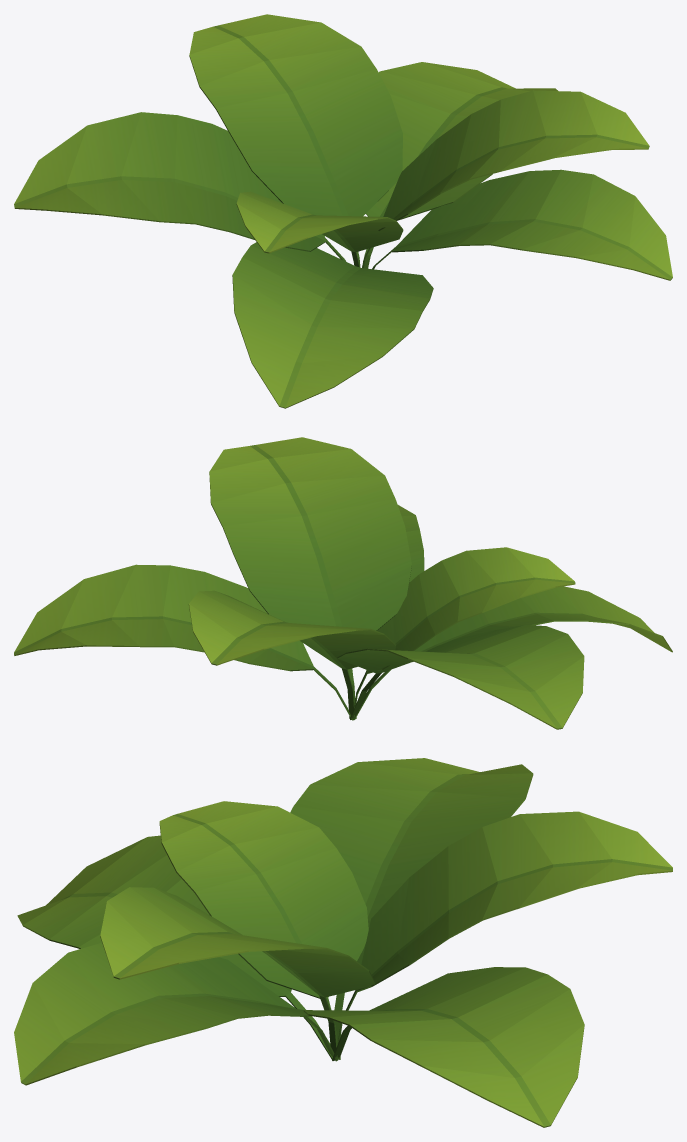
File: Plant_01.obj
The picture shows the model from 3 angles, top to bottom: view 1: azimuth 30°, elevation 25°; view 2: azimuth 150°, elevation 25°; view 3: azimuth 270°, elevation 25°; orthographic projection. The views are drawn at different scales.
Visible parts, largest first — view 1: Plant_01_Plant_01_Plane.092; view 2: Plant_01_Plant_01_Plane.092; view 3: Plant_01_Plant_01_Plane.092.
Boxes of the visible parts, bbox=[...] form: Plant_01_Plant_01_Plane.092: bbox=[14, 14, 672, 408]; Plant_01_Plant_01_Plane.092: bbox=[14, 437, 672, 729]; Plant_01_Plant_01_Plane.092: bbox=[14, 758, 672, 1127].
Size of the model in its own units: 1.16 by 0.3774 by 1.04.
Materials: 1 (1 with a texture image).
